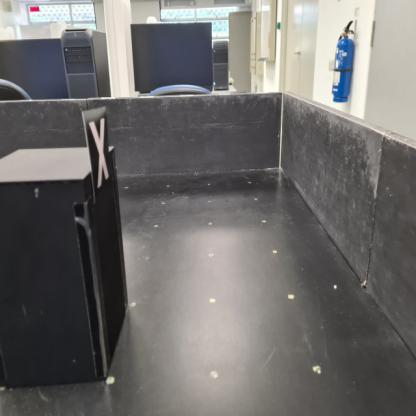x: (82, 105, 115, 205)
